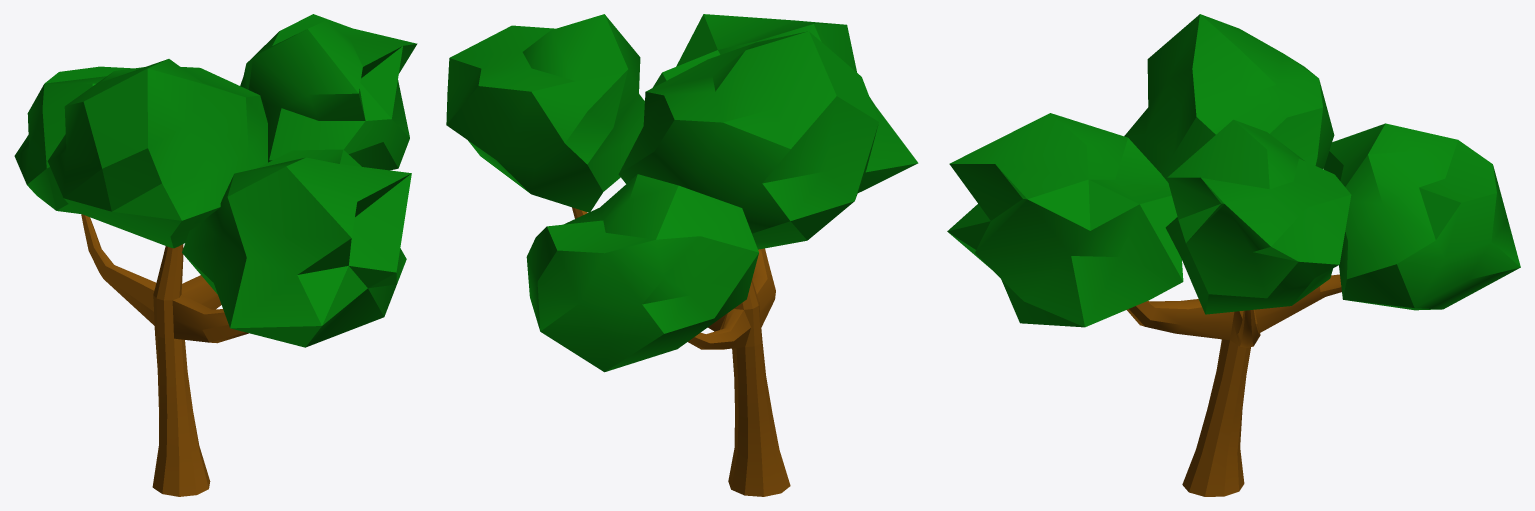
The model's file is tree4.fbx.
3 renders of one model, left to right at view 1: azimuth 30°, elevation 25°; view 2: azimuth 150°, elevation 25°; view 3: azimuth 270°, elevation 25°, orthographic. The views are drawn at different scales.
Parts seen in each view (by area): view 1: Cylinder.001; view 2: Cylinder.001; view 3: Cylinder.001.
Part boxes in pixels (x1,y1,x2,y2): Cylinder.001: [14, 14, 417, 496]; Cylinder.001: [446, 14, 918, 496]; Cylinder.001: [947, 14, 1520, 496].
Size of the model in its own units: 1637 by 1833 by 2118.
1 material, 1 textured.
